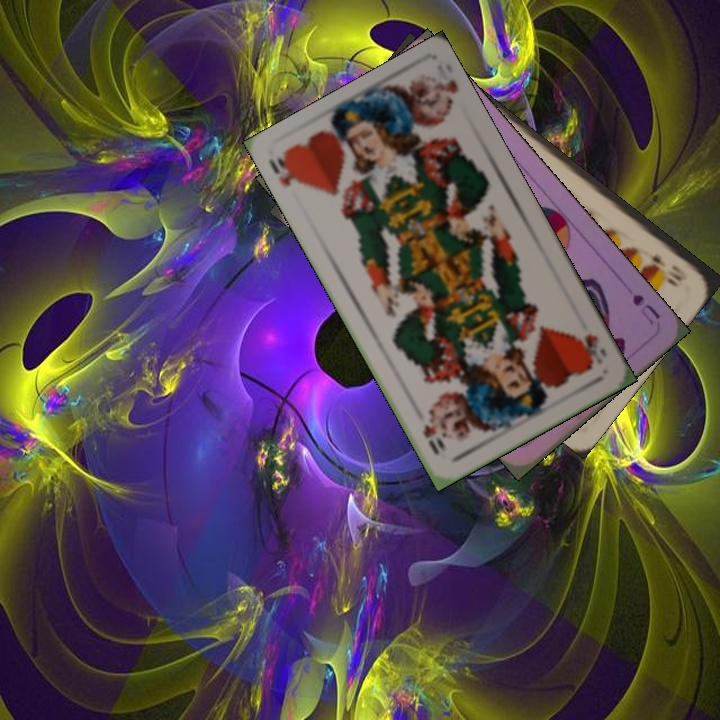E10: (648, 251, 689, 284)
HO: (264, 153, 307, 190), (574, 330, 610, 371)
SU: (628, 289, 663, 328)
